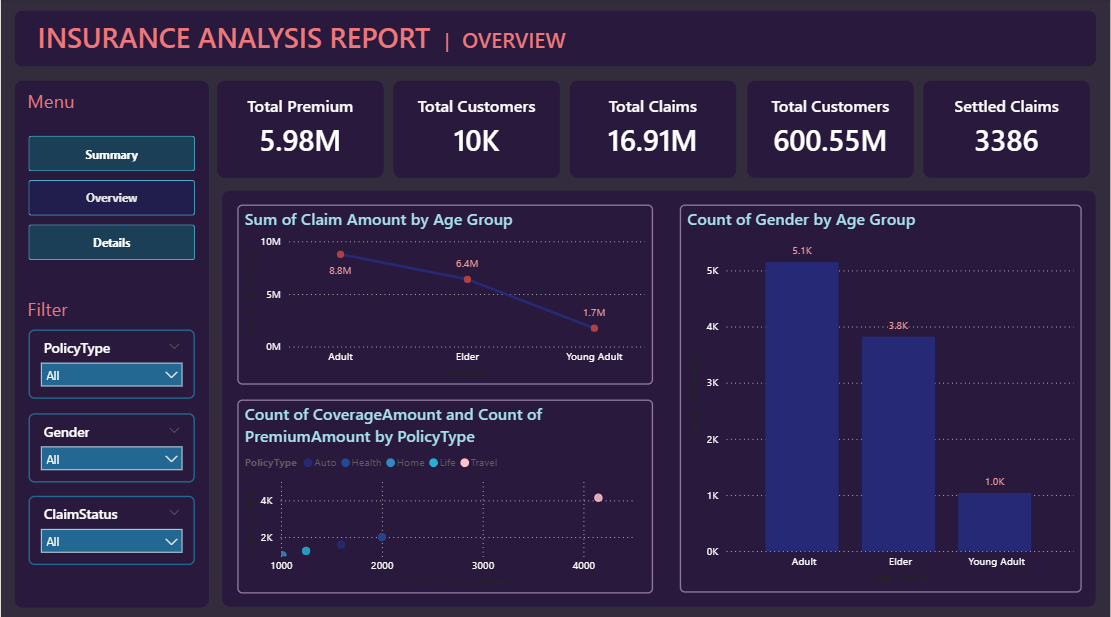

Layout of this report page (visuals, bound fields, positions):
{"tool":"powerbi","page":{"name":"Overview","canvas":[1280,720],"ordinal":1},"visuals":[{"type":"textbox","box":[16,16,1248,64],"z":0},{"type":"textbox","box":[16,96,224,608],"z":1000},{"type":"textbox","box":[248.9,96,192,112],"z":2000,"group":"g1"},{"type":"textbox","box":[452.9,96,192,112],"z":2000,"group":"g2"},{"type":"textbox","box":[656.9,96,192,112],"z":2000,"group":"g3"},{"type":"textbox","box":[860.9,96,192,112],"z":2000,"group":"g4"},{"type":"textbox","box":[1064.9,96,192,112],"z":2000,"group":"g5"},{"type":"slicer","fields":{"Values":["InsuranceData.PolicyType"]},"box":[32,384,192,80],"z":2000},{"type":"slicer","fields":{"Values":["InsuranceData.Age Group"]},"box":[32,480,192,80],"z":3000},{"type":"slicer","fields":{"Values":["InsuranceData.ClaimStatus"]},"box":[32,576,192,80],"z":4000},{"type":"group","id":"g1","title":"Group 2","box":[248.9,96,192,112],"z":5000},{"type":"card","title":"Total Premium","fields":{"Values":["Sum(InsuranceData.PremiumAmount)"]},"box":[264.9,112,160,80],"z":5001,"group":"g1"},{"type":"card","title":"Total Customers","fields":{"Values":["InsuranceData.Total Customers"]},"box":[468.9,112,160,80],"z":5001,"group":"g2"},{"type":"card","title":"Total Claims","fields":{"Values":["Sum(InsuranceData.ClaimAmount)"]},"box":[672.9,112,160,80],"z":5001,"group":"g3"},{"type":"card","title":"Total Customers","fields":{"Values":["Sum(InsuranceData.CoverageAmount)"]},"box":[876.9,112,160,80],"z":5001,"group":"g4"},{"type":"card","title":"Settled Claims","fields":{"Values":["InsuranceData.Settled Claims"]},"box":[1080.9,112,160,80],"z":5001,"group":"g5"},{"type":"group","id":"g2","title":"Group 3","box":[452.9,96,192,112],"z":6000},{"type":"group","id":"g3","title":"Group 4","box":[656.9,96,192,112],"z":7000},{"type":"group","id":"g4","title":"Group 5","box":[860.9,96,192,112],"z":8000},{"type":"group","id":"g5","title":"Group 1","box":[1064.9,96,176,112],"z":9000},{"type":"textbox","box":[256,224,1008,480],"z":10000},{"type":"lineChart","title":"Sum of Claim Amount by Age Group","fields":{"Category":["InsuranceData.Age Group"],"Y":["Sum(InsuranceData.ClaimAmount)"]},"box":[272,240,480,208],"z":11000},{"type":"scatterChart","fields":{"X":["CountNonNull(InsuranceData.CoverageAmount)"],"Y":["CountNonNull(InsuranceData.PremiumAmount)"],"Series":["InsuranceData.PolicyType"]},"box":[272,464,480,224],"z":12000},{"type":"clusteredColumnChart","fields":{"Category":["InsuranceData.Age Group"],"Y":["CountNonNull(InsuranceData.Gender)"]},"box":[784,240,464,448],"z":13000},{"type":"pageNavigator","box":[32,160,192,144],"z":13001}]}

Visuals, with their boxes in screenshot pixels (x1, y1, x2, y2), scaled from the page's 1280x720 canvas onto the 1111x617 screenshot:
textbox: box=[14, 14, 1097, 69]
textbox: box=[14, 82, 208, 603]
textbox: box=[216, 82, 383, 178]
textbox: box=[393, 82, 560, 178]
textbox: box=[570, 82, 737, 178]
textbox: box=[747, 82, 914, 178]
textbox: box=[924, 82, 1091, 178]
slicer - InsuranceData.PolicyType: box=[28, 329, 194, 398]
slicer - InsuranceData.Age Group: box=[28, 411, 194, 480]
slicer - InsuranceData.ClaimStatus: box=[28, 494, 194, 562]
"Group 2" group: box=[216, 82, 383, 178]
"Total Premium" card: box=[230, 96, 369, 165]
"Total Customers" card: box=[407, 96, 546, 165]
"Total Claims" card: box=[584, 96, 723, 165]
"Total Customers" card: box=[761, 96, 900, 165]
"Settled Claims" card: box=[938, 96, 1077, 165]
"Group 3" group: box=[393, 82, 560, 178]
"Group 4" group: box=[570, 82, 737, 178]
"Group 5" group: box=[747, 82, 914, 178]
"Group 1" group: box=[924, 82, 1077, 178]
textbox: box=[222, 192, 1097, 603]
"Sum of Claim Amount by Age Group" lineChart: box=[236, 206, 653, 384]
scatterChart - CountNonNull(InsuranceData.CoverageAmount) x CountNonNull(InsuranceData.PremiumAmount): box=[236, 398, 653, 590]
clusteredColumnChart - InsuranceData.Age Group x CountNonNull(InsuranceData.Gender): box=[680, 206, 1083, 590]
pageNavigator: box=[28, 137, 194, 261]
